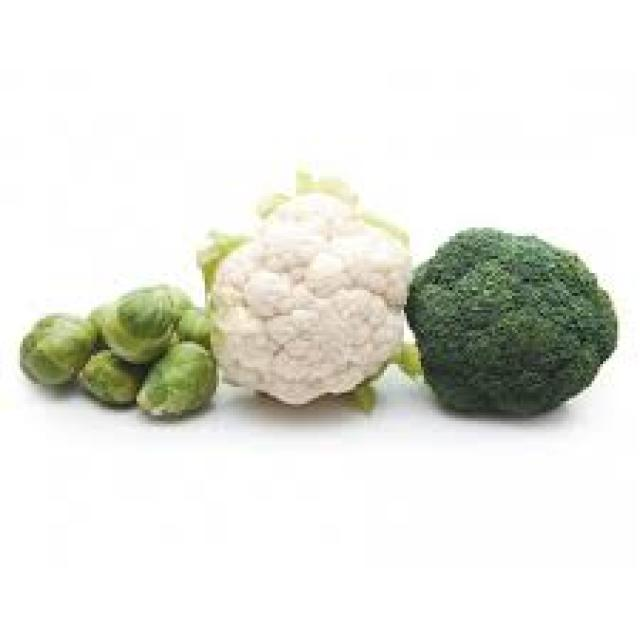Organik: (210, 175, 405, 437), (417, 219, 606, 416), (23, 284, 214, 420)
